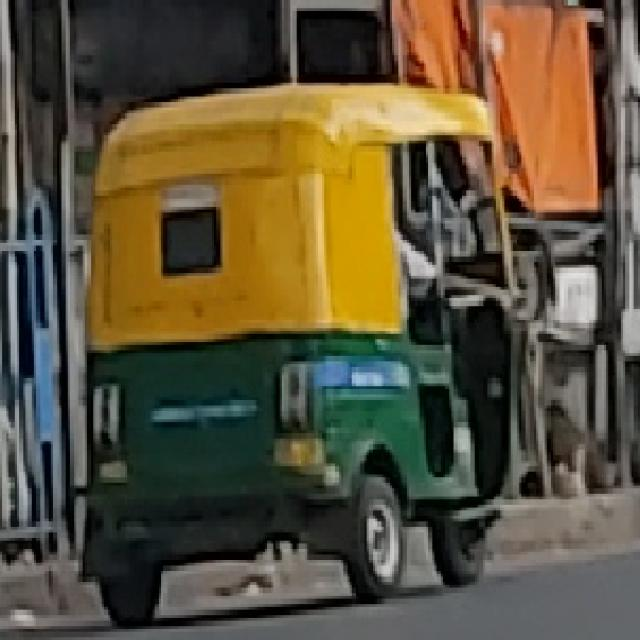autorickshaw: (78, 89, 504, 626)
